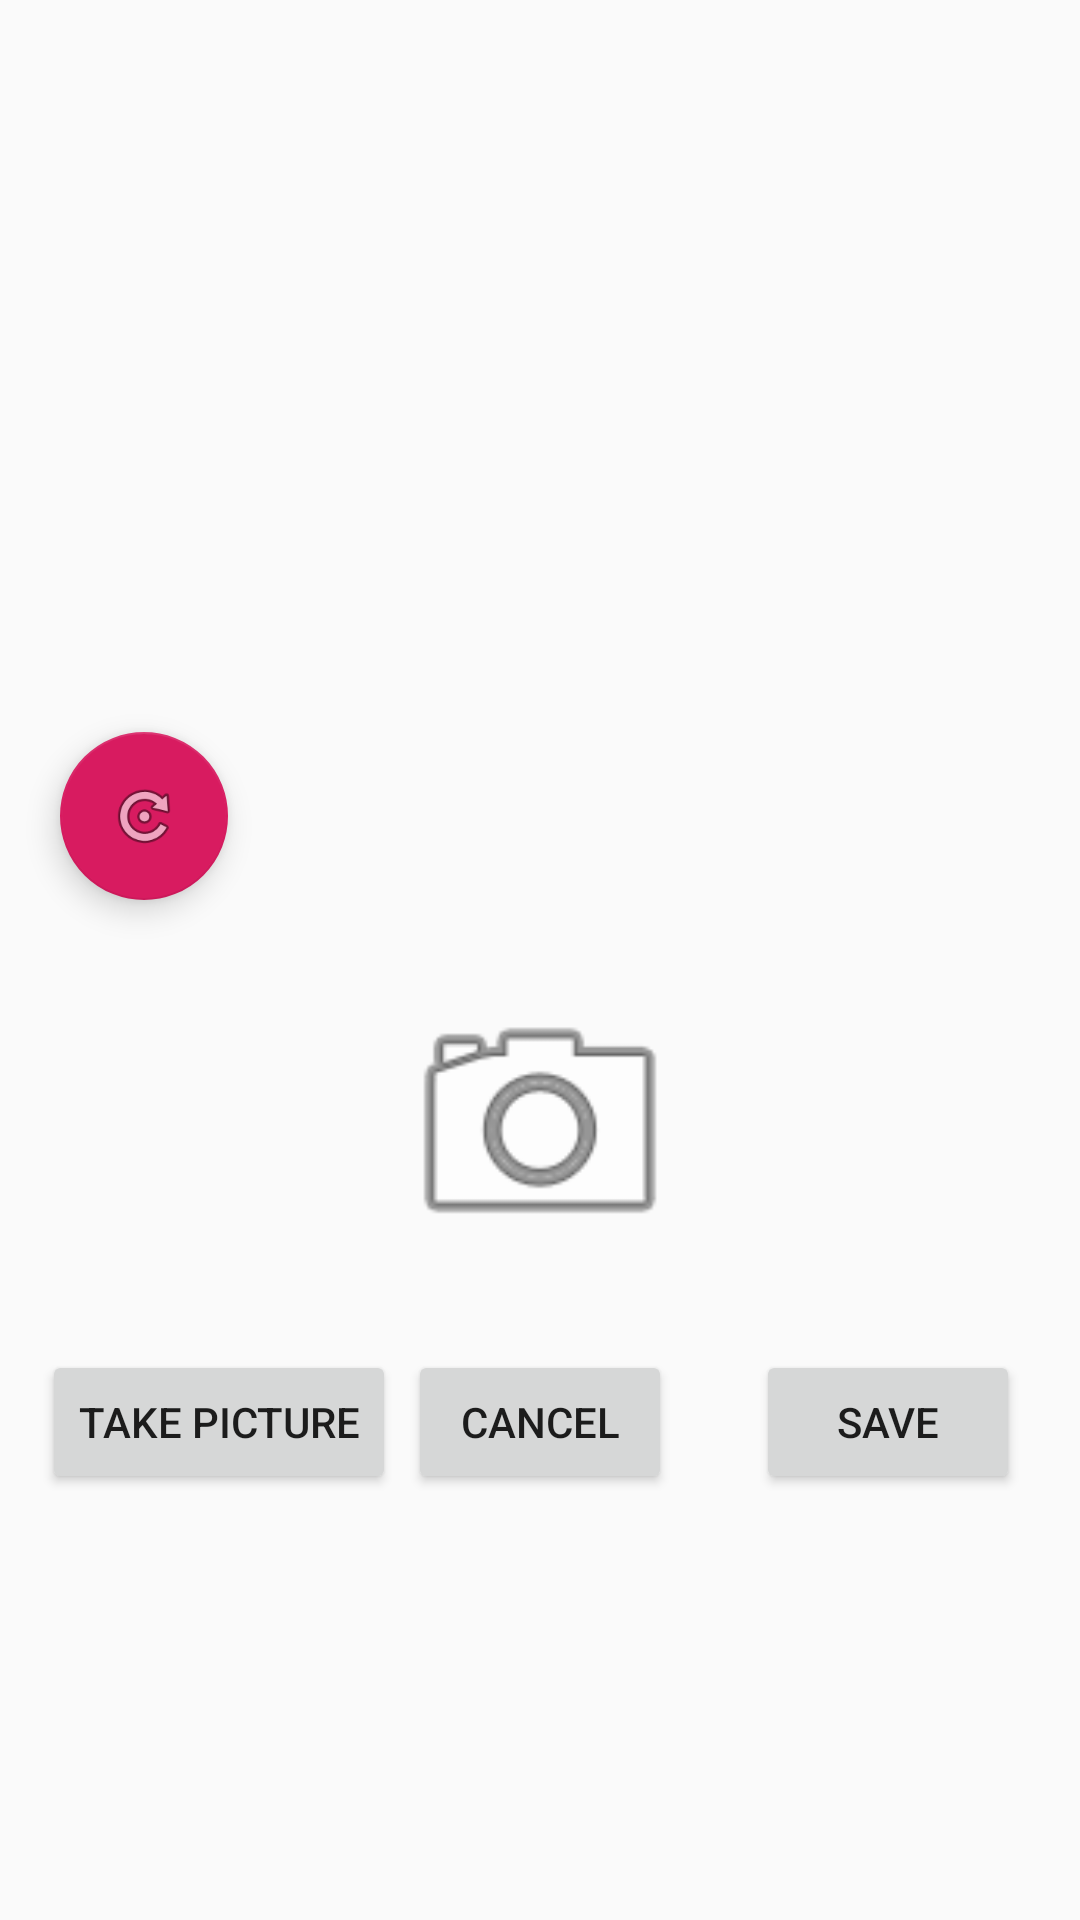

Where icons sit on this 1080w x 1920h app screen, as [x1, y1, x2, y2]:
camera: [424, 1028, 656, 1213]
rotate: [60, 732, 228, 900]
